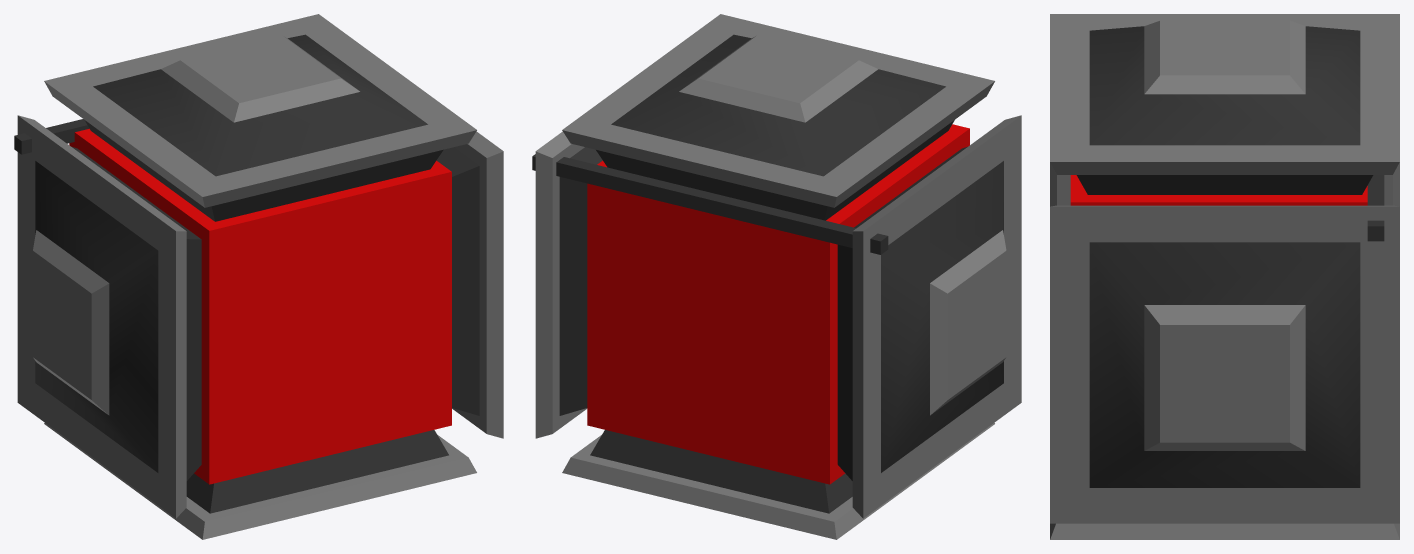
Rendered from EnergyContainerC.fbx.
3 renders of one model, left to right at view 1: azimuth 30°, elevation 25°; view 2: azimuth 150°, elevation 25°; view 3: azimuth 270°, elevation 25°, orthographic. The views are drawn at different scales.
Visible parts, largest first — view 1: GenericContainer3; view 2: GenericContainer3; view 3: GenericContainer3.
Part boxes in pixels (left/top/right/bottom): GenericContainer3: left=14, top=14, right=503, bottom=539; GenericContainer3: left=532, top=14, right=1021, bottom=539; GenericContainer3: left=1050, top=14, right=1399, bottom=539.
Bounding box in the file's own units: 3.62 × 3.62 × 2.51.
